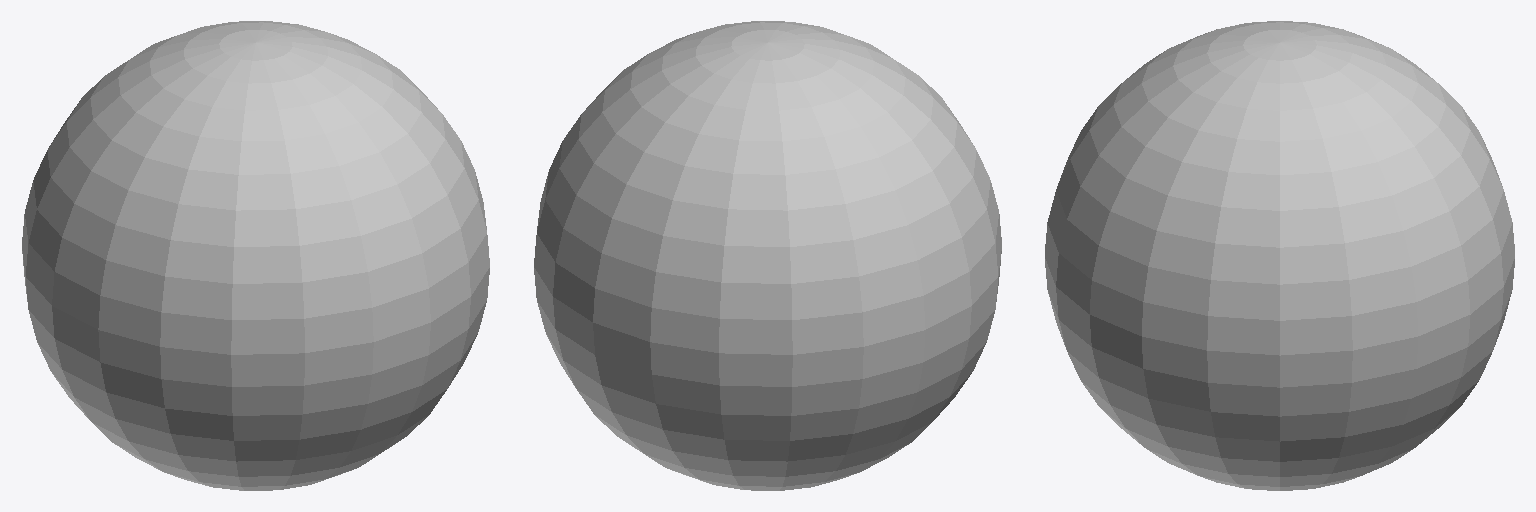
File: Planeta_Rey.obj
3 renders of one model, left to right at view 1: azimuth 30°, elevation 25°; view 2: azimuth 150°, elevation 25°; view 3: azimuth 270°, elevation 25°, orthographic.
Parts seen in each view (by area): view 1: pSphere9; view 2: pSphere9; view 3: pSphere9.
Boxes of the visible parts, box(x1,y1,x2,y2) form: pSphere9: box(22, 21, 489, 490); pSphere9: box(534, 21, 1001, 490); pSphere9: box(1045, 21, 1514, 490).
Size of the model in its own units: 4.72 by 4.72 by 4.72.